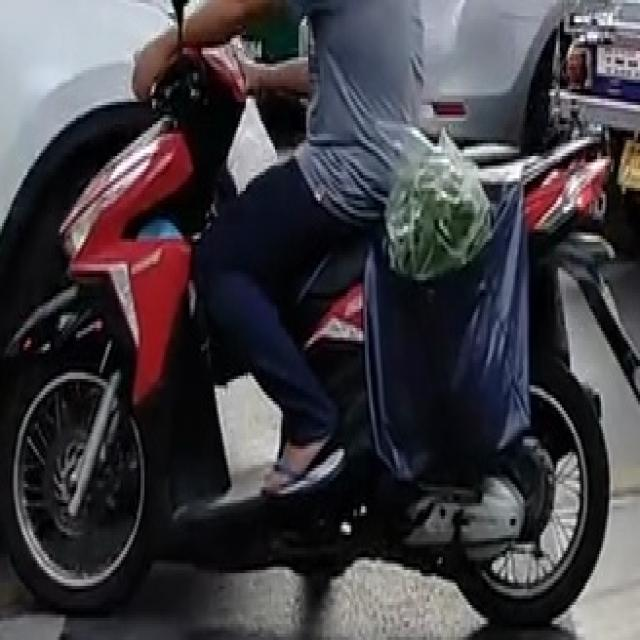tyre: (451, 354, 609, 624)
